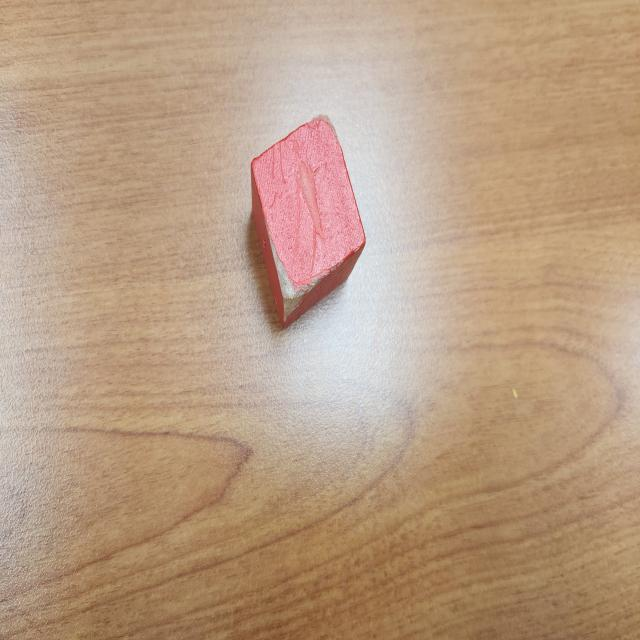broken: (251, 112, 366, 328)
